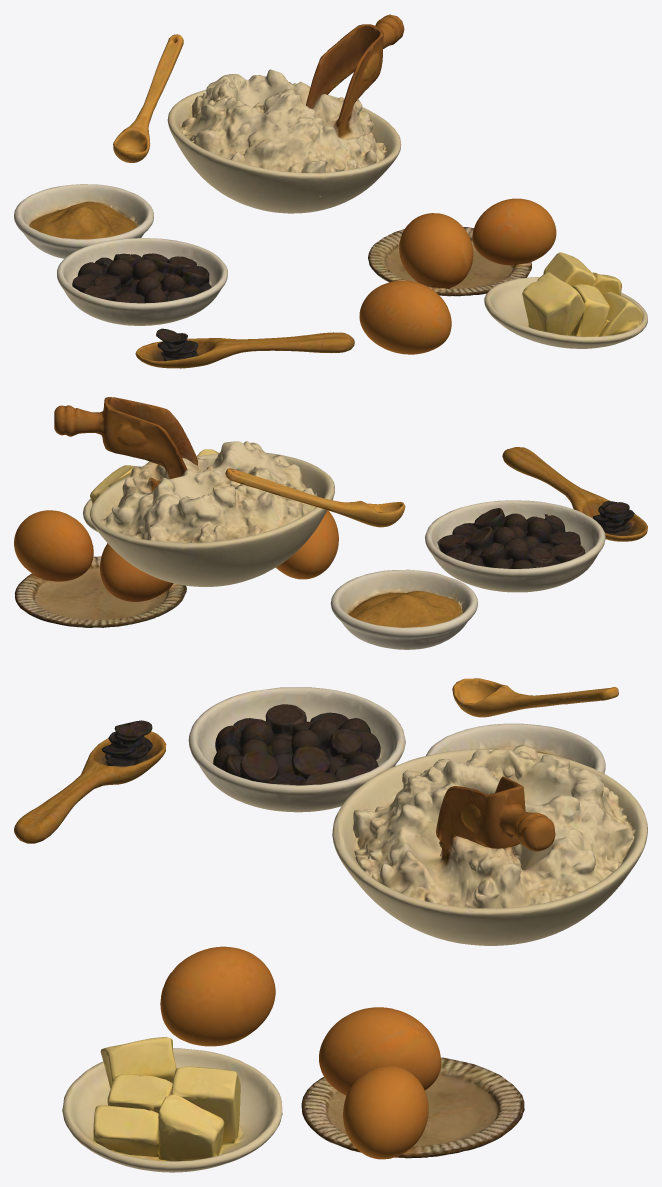
File: ingredientes.glb
The picture shows the model from 3 angles, top to bottom: view 1: azimuth 30°, elevation 25°; view 2: azimuth 150°, elevation 25°; view 3: azimuth 270°, elevation 25°; orthographic projection. The views are drawn at different scales.
Parts seen in each view (by area): view 1: tripo_node_c2554c7d-1b32-4a2f-aa20-e64e1fa38746; view 2: tripo_node_c2554c7d-1b32-4a2f-aa20-e64e1fa38746; view 3: tripo_node_c2554c7d-1b32-4a2f-aa20-e64e1fa38746.
Part boxes in pixels (box(x1,y1,x2,y2)): tripo_node_c2554c7d-1b32-4a2f-aa20-e64e1fa38746: box(14, 14, 647, 368); tripo_node_c2554c7d-1b32-4a2f-aa20-e64e1fa38746: box(14, 397, 647, 649); tripo_node_c2554c7d-1b32-4a2f-aa20-e64e1fa38746: box(14, 678, 647, 1172).
Bounding box in the file's own units: 0.9798 × 0.418 × 0.7765.
Materials: 1 (1 with a texture image).
